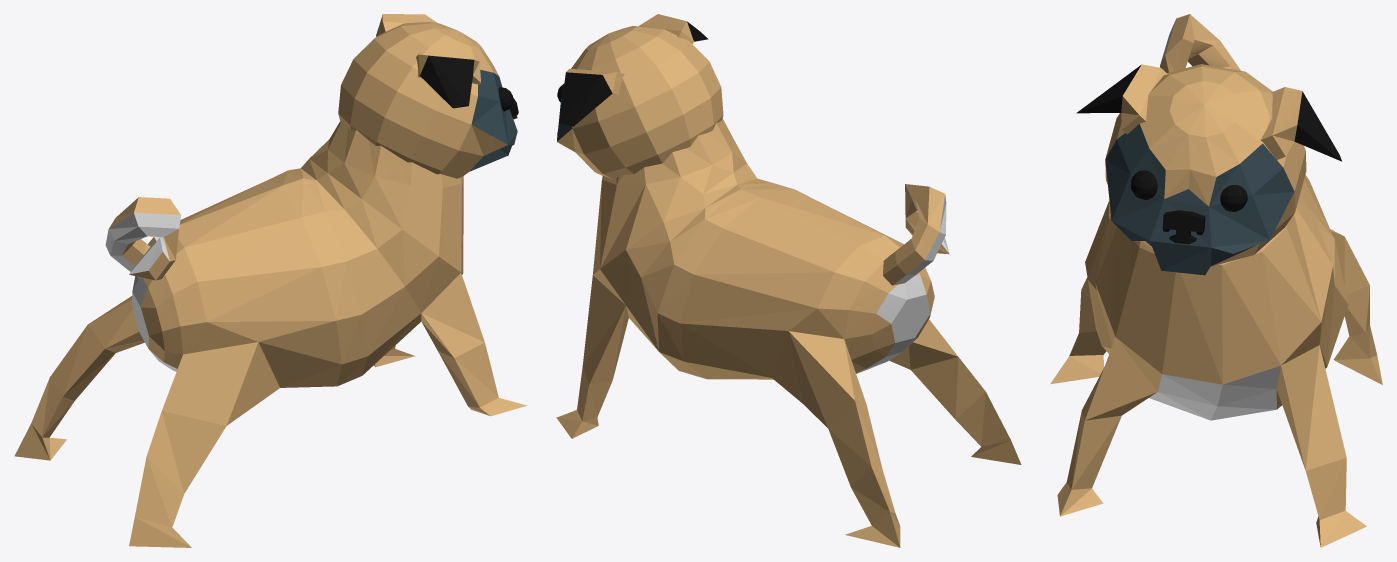
3 views of the same model, side by side, from view 1: azimuth 30°, elevation 25°; view 2: azimuth 150°, elevation 25°; view 3: azimuth 270°, elevation 25° (orthographic). The views are drawn at different scales.
Parts seen in each view (by area): view 1: node_MeshObject959651328-PolyPaper18; view 2: node_MeshObject959651328-PolyPaper18; view 3: node_MeshObject959651328-PolyPaper18.
Part boxes in pixels (x1=…): node_MeshObject959651328-PolyPaper18: x1=14, y1=14, x2=526, y2=547; node_MeshObject959651328-PolyPaper18: x1=556, y1=14, x2=1021, y2=547; node_MeshObject959651328-PolyPaper18: x1=1050, y1=14, x2=1382, y2=547.
Size of the model in its own units: 0.5907 by 0.5292 by 0.3299.
